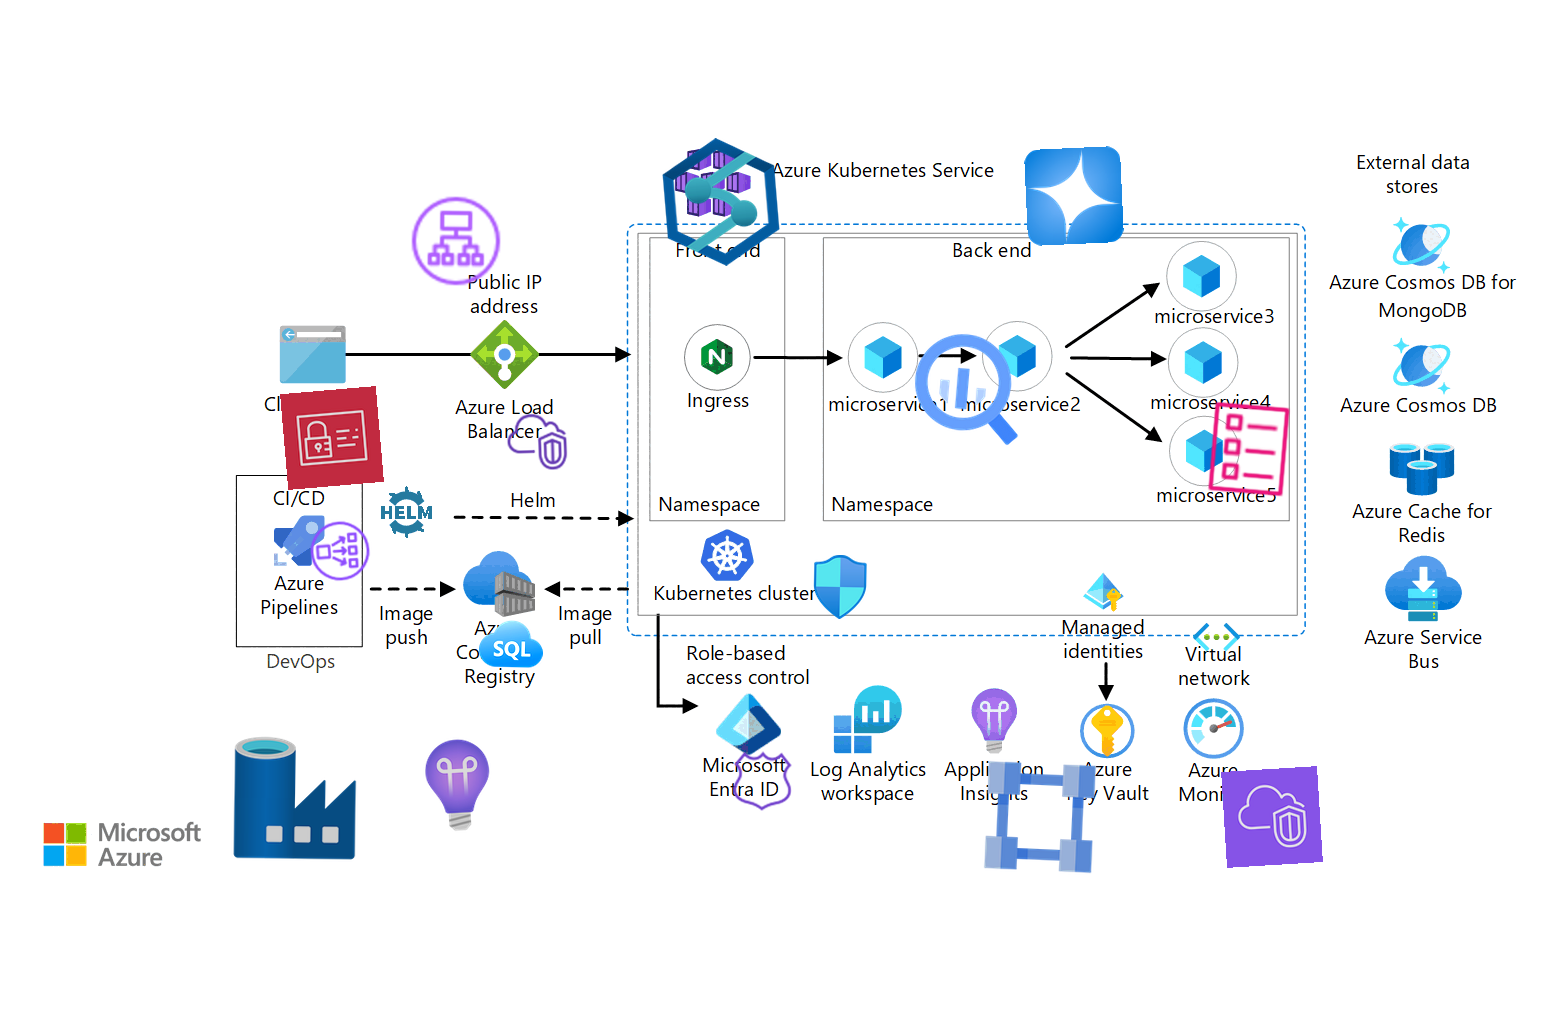aws_amazon_virtual_private_cloud: (1221, 766, 1323, 868)
aws_cloudformation_template: (1196, 397, 1300, 501)
aws_elastic_load_balancing_application_load_balancer: (407, 193, 505, 290)
aws_elastic_load_balancing_network_load_balancer: (306, 517, 374, 585)
aws_identity_and_access_management: (280, 386, 384, 489)
aws_route_53_hosted_zone: (730, 748, 796, 814)
aws_vpc_virtual_private_cloud_vpc: (503, 408, 571, 476)
azure_application_insights: (407, 734, 509, 836)
azure_data_factories: (230, 734, 360, 863)
azure_network_security_groups: (807, 554, 873, 620)
azure_openai: (1023, 146, 1125, 246)
azure_sql: (478, 612, 544, 679)
azure_synapse_analytics: (651, 132, 791, 272)
gcp_bigquery: (898, 317, 1038, 458)
gcp_virtual_private_cloud: (973, 750, 1107, 884)
